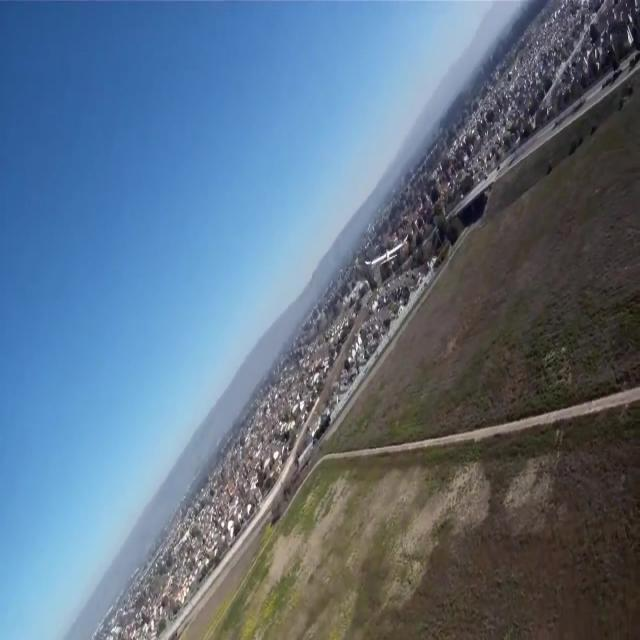iha: (364, 234, 408, 266)
